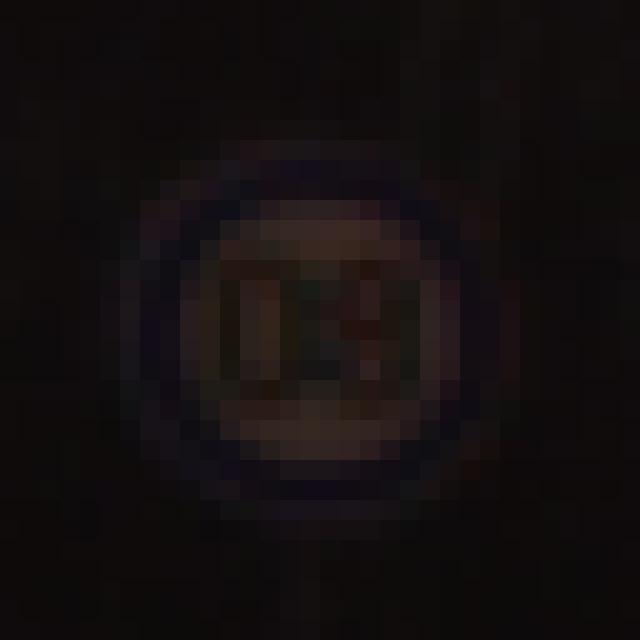SPEED-LIMIT-80: (129, 143, 532, 512)
